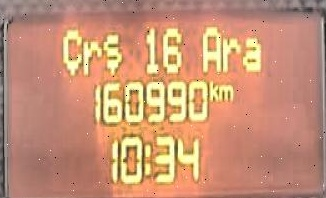0: (119, 132, 143, 183), (187, 76, 207, 120), (124, 80, 143, 123)
1: (141, 21, 159, 75), (109, 135, 119, 185), (93, 80, 100, 121)
3: (153, 132, 174, 182)
4: (175, 133, 199, 180)
6: (160, 23, 181, 73), (100, 78, 121, 123)
9: (145, 78, 165, 122), (166, 78, 185, 120)
X: (60, 25, 81, 76), (101, 30, 124, 75), (200, 22, 220, 73), (82, 33, 102, 75), (220, 33, 240, 70), (241, 35, 260, 71), (143, 140, 152, 176), (217, 81, 233, 100), (209, 76, 216, 100)
